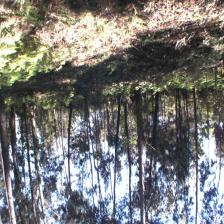trunktrack_idkeyframe: (134, 90, 144, 188), (26, 104, 39, 160), (114, 93, 123, 144), (9, 104, 16, 158), (152, 91, 160, 130), (67, 104, 73, 152), (193, 88, 198, 132), (124, 100, 128, 135)
